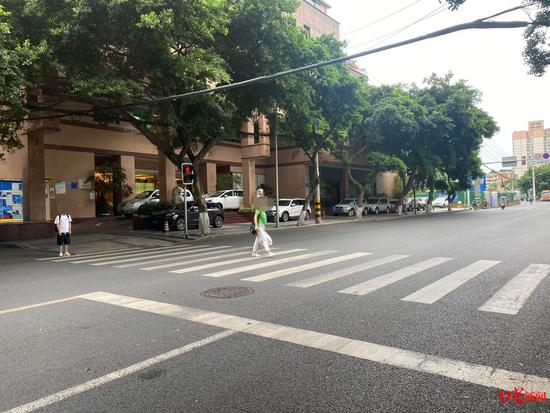car: (136, 192, 224, 230), (119, 190, 159, 217), (267, 198, 307, 222), (204, 190, 243, 210), (332, 199, 369, 217), (365, 197, 392, 214), (404, 194, 428, 211), (377, 198, 399, 214), (432, 195, 450, 208), (539, 190, 550, 201)
person: (250, 208, 274, 257), (53, 206, 74, 257), (499, 199, 506, 211)
sign: (533, 153, 540, 160), (542, 153, 549, 160)
traffic light: (182, 162, 195, 184)
